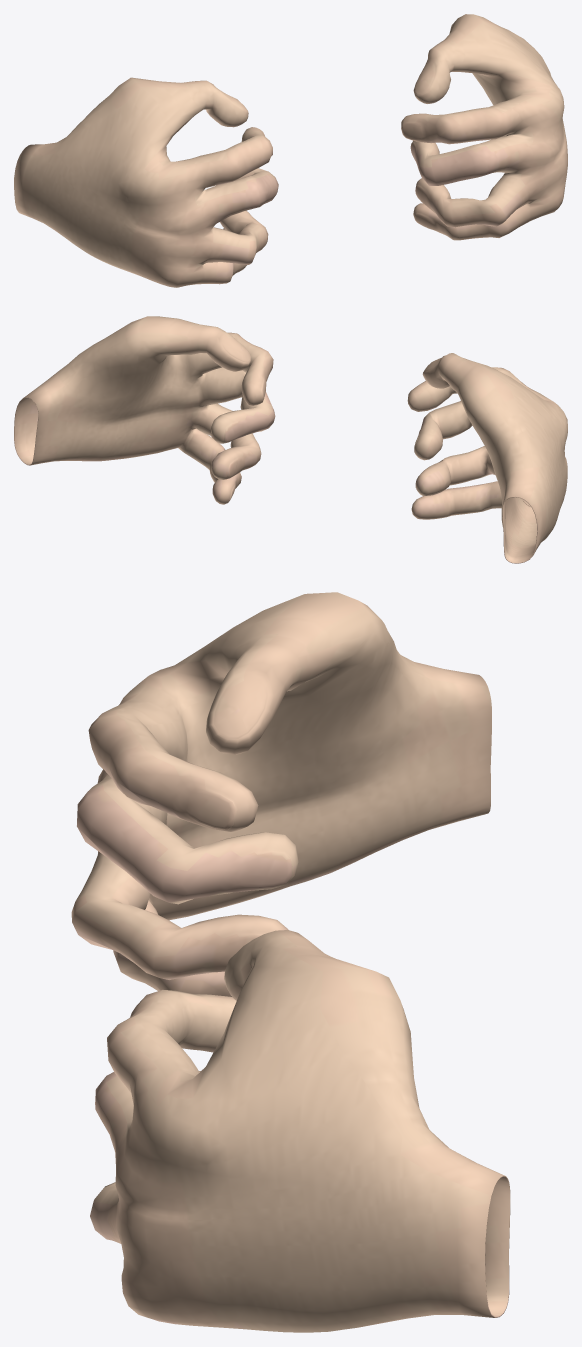
File: _ands.fbx
3 views of the same model, one above another, from view 1: azimuth 30°, elevation 25°; view 2: azimuth 150°, elevation 25°; view 3: azimuth 270°, elevation 25° (orthographic). The views are drawn at different scales.
Parts seen in each view (by area): view 1: right, left; view 2: left, right; view 3: left, right.
Boxes of the visible parts, left/top/right/bottom form: right: left=14, top=77, right=278, bottom=287; left: left=401, top=14, right=567, bottom=240; left: left=14, top=316, right=275, bottom=504; right: left=407, top=353, right=567, bottom=563; left: left=90, top=930, right=510, bottom=1332; right: left=71, top=592, right=491, bottom=996.
Bounding box in the file's own units: 2126 × 805 × 778.
